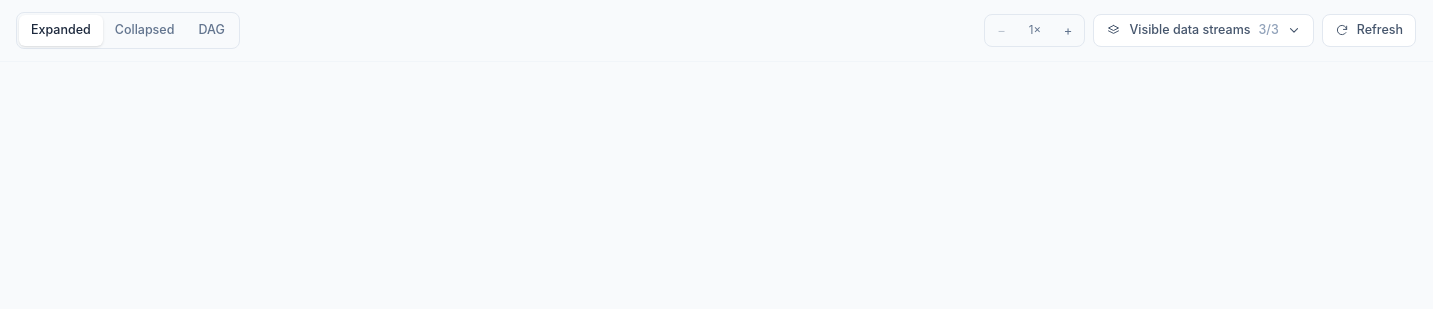
Test: controls › lists available streams and explains the unavailable ones
Step 1. Click the button with test id "stream-visibility-toggle" → (1204, 30), box 1094,14 -> 1314,47
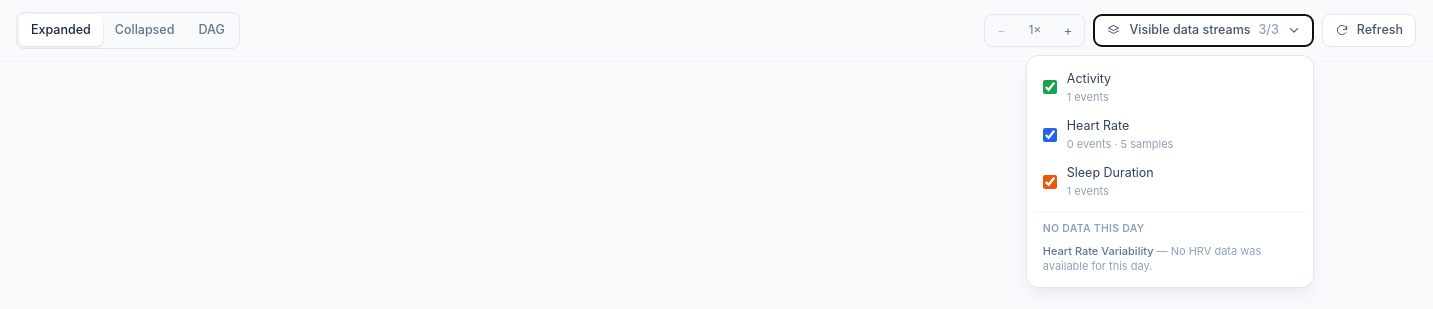
Now the text "Activity" is shown, box 1067,71 -> 1111,86
Now the text "No data this day" is shown, box 1043,222 -> 1144,234
Now the text "No HRV data was available for this day" is shown, box 1043,244 -> 1261,273
